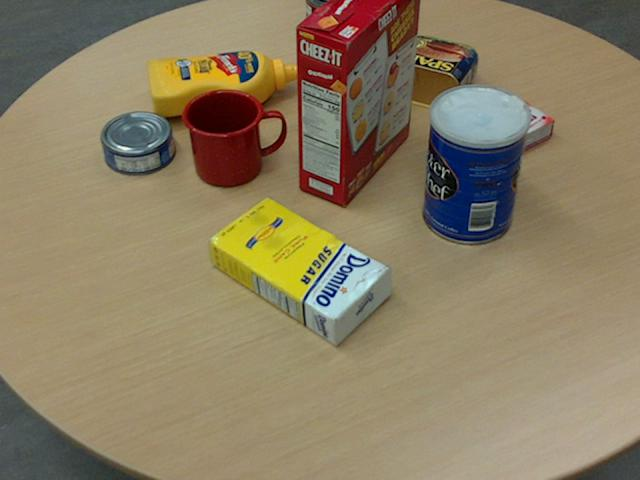cracker_box: (294, 0, 421, 204)
gelatin_box: (460, 92, 553, 159)
large_marker: (322, 21, 338, 110)
master_chef_can: (421, 84, 529, 245)
mug: (180, 88, 284, 185)
mustard_bottle: (146, 49, 299, 115)
potted_meat_can: (383, 35, 477, 111)
sugar_box: (205, 196, 391, 346)
tomato_soup_can: (306, 0, 356, 72)
tuna_fish_can: (99, 110, 173, 173)
